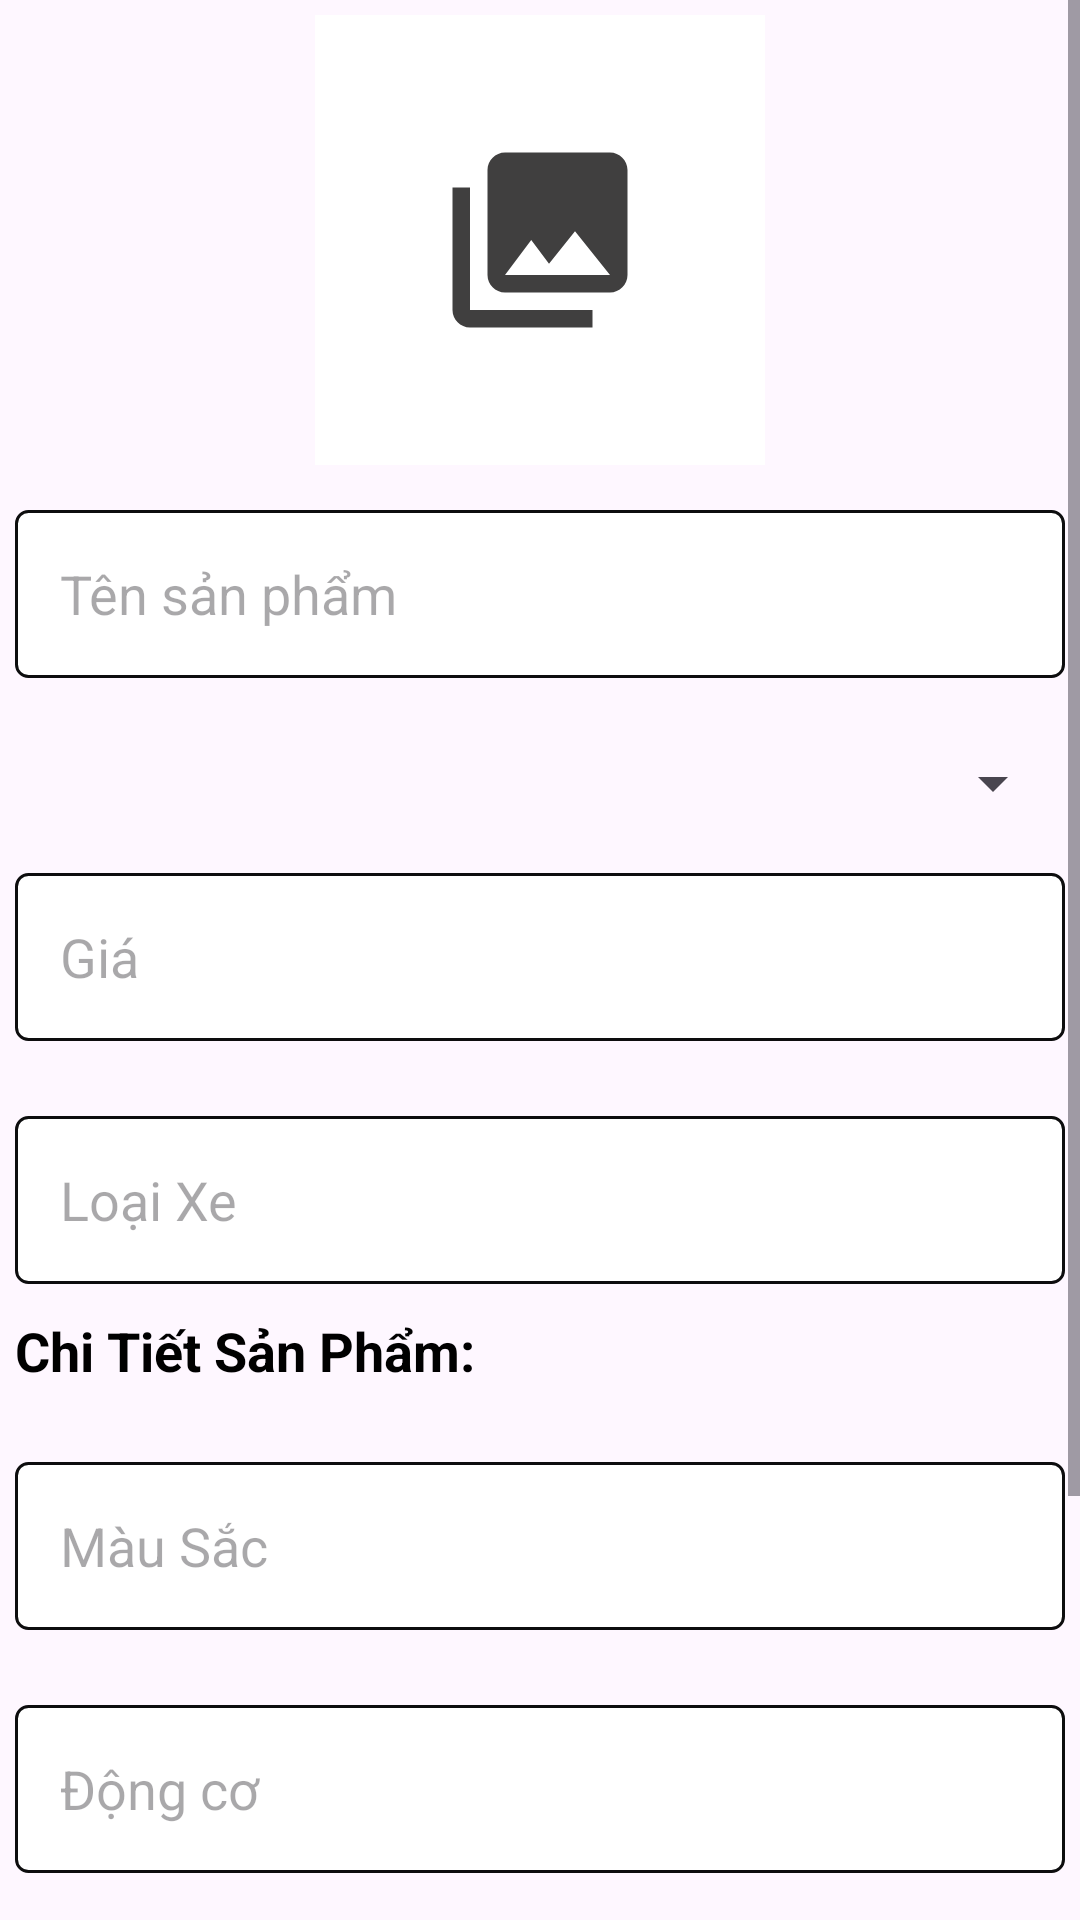

Icon bounding boxes for this 1080 × 1920 phone screenshot, format (x1, y1, x2, y2):
photo library: (452, 152, 628, 328)
